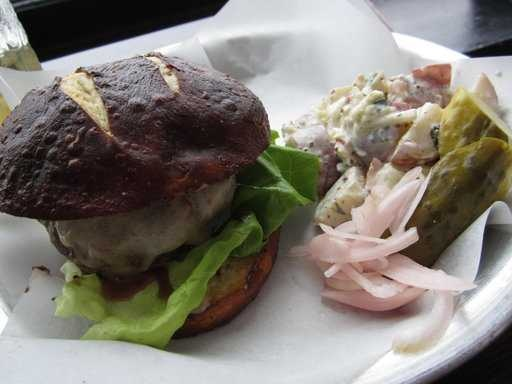hamburger: (7, 54, 293, 335)
